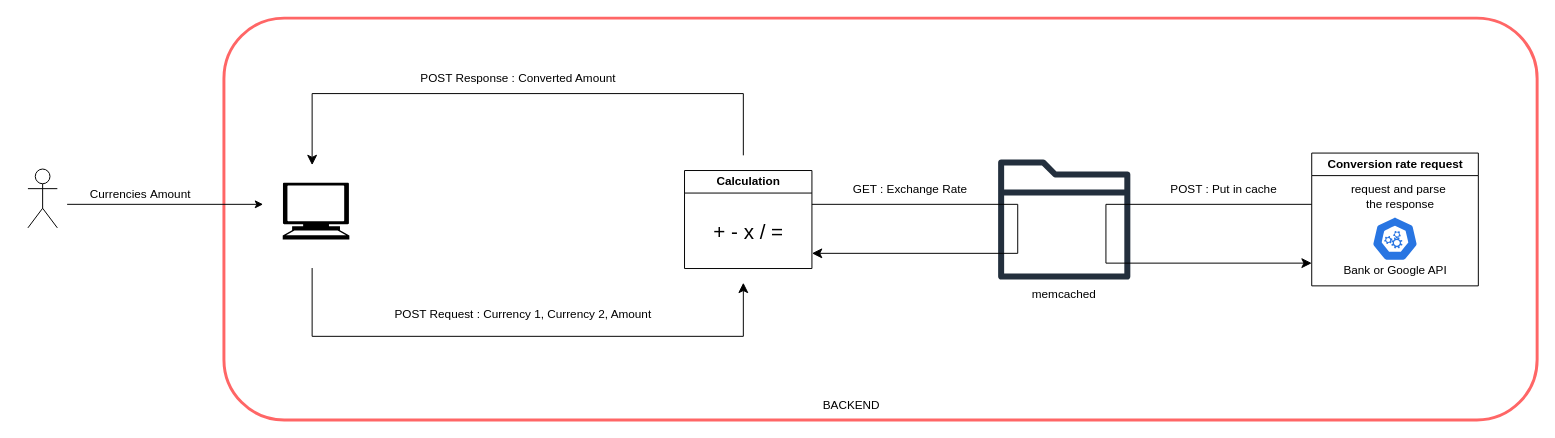
The diagram is 1555 pixels wide and 438 high, and some of its shapes have lost their labels. The shapes that lost their labels are listed below. From the top down, each one's centre as x and y in pixels, then its label:
At point 42,198: "Customer".
At point 315,210: "Currency Conversion Client".
